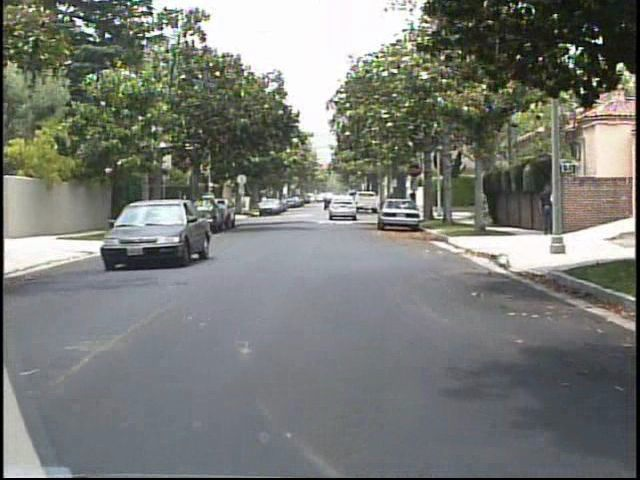person: (539, 180, 552, 236), (165, 192, 181, 231)
